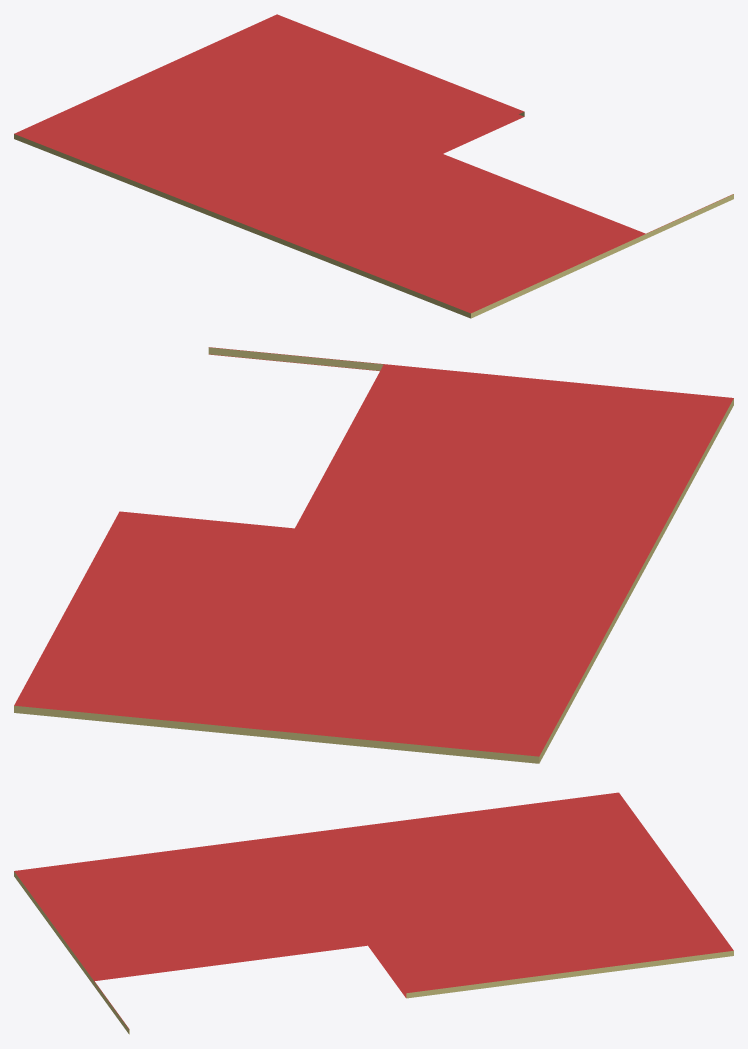
The picture shows the model from 3 angles, top to bottom: view 1: azimuth 30°, elevation 25°; view 2: azimuth 150°, elevation 25°; view 3: azimuth 270°, elevation 25°; orthographic projection. The views are drawn at different scales.
Bounding box in the file's own units: 9.67 × 12.42 × 0.1.
